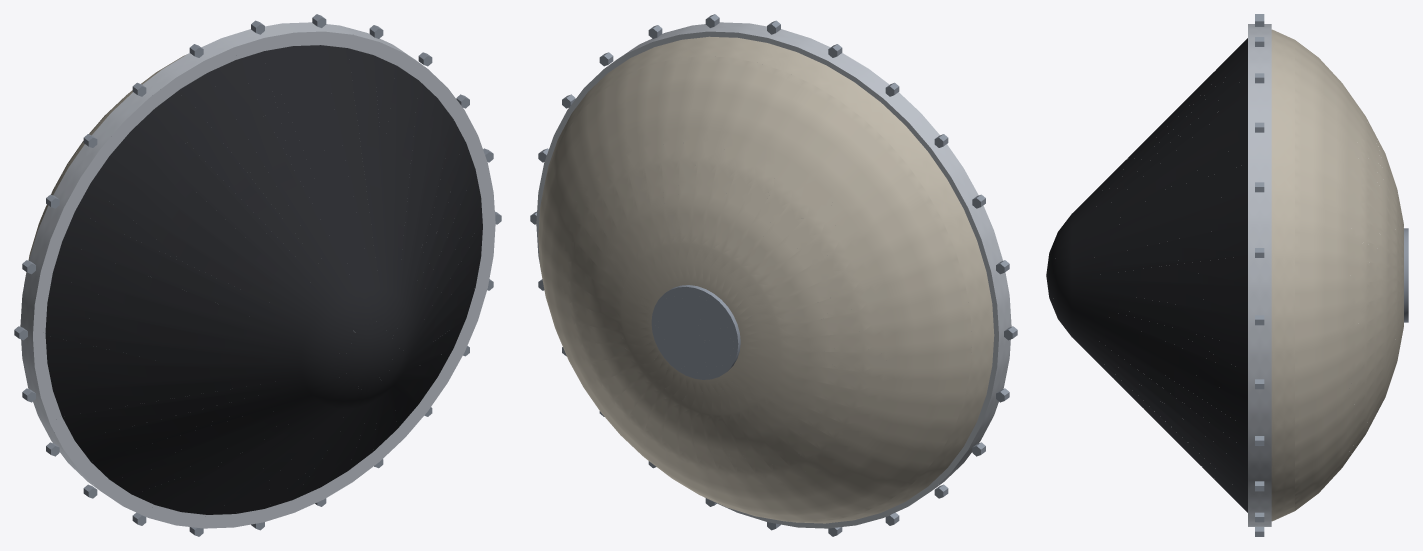
File: galileo-probe.glb
The picture shows the model from 3 angles, left to right: view 1: azimuth 30°, elevation 25°; view 2: azimuth 150°, elevation 25°; view 3: azimuth 270°, elevation 25°; orthographic projection. The views are drawn at different scales.
Parts seen in each view (by area): view 1: body; view 2: body; view 3: body.
Boxes of the visible parts, box(x1,y1,x2,y2) form: body: box(14, 14, 501, 536); body: box(530, 14, 1017, 536); body: box(1046, 14, 1408, 536).
Bounding box in the file's own units: 1.33 × 1.34 × 0.9219.
